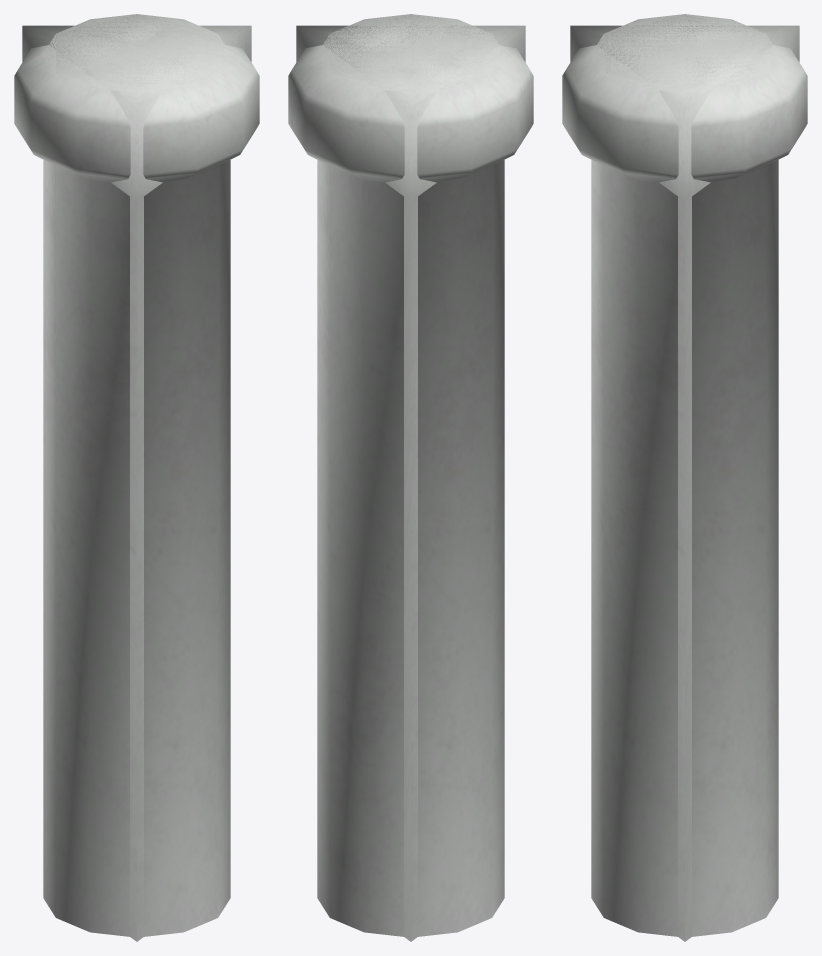
The model's file is hr_guardrail_endpost.dae.
3 views of the same model, side by side, from view 1: azimuth 30°, elevation 25°; view 2: azimuth 150°, elevation 25°; view 3: azimuth 270°, elevation 25° (orthographic).
Parts seen in each view (by area): view 1: hr_guardrail_endpost_a300, hr_guardrail_endpost_a15, hr_guardrail_endpost_a100, Colmesh_hr_guardrail_endpost-1; view 2: hr_guardrail_endpost_a300, hr_guardrail_endpost_a15, hr_guardrail_endpost_a100, Colmesh_hr_guardrail_endpost-1; view 3: hr_guardrail_endpost_a300, hr_guardrail_endpost_a15, hr_guardrail_endpost_a100, Colmesh_hr_guardrail_endpost-1.
Boxes of the visible parts, box(x1,y1,x2,y2) form: hr_guardrail_endpost_a300: box(14, 14, 259, 936); hr_guardrail_endpost_a15: box(22, 25, 251, 941); hr_guardrail_endpost_a100: box(56, 14, 217, 92); Colmesh_hr_guardrail_endpost-1: box(56, 15, 217, 92); hr_guardrail_endpost_a300: box(288, 14, 533, 936); hr_guardrail_endpost_a15: box(296, 25, 525, 941); hr_guardrail_endpost_a100: box(330, 14, 491, 92); Colmesh_hr_guardrail_endpost-1: box(330, 14, 491, 91); hr_guardrail_endpost_a300: box(562, 14, 807, 936); hr_guardrail_endpost_a15: box(570, 25, 799, 941); hr_guardrail_endpost_a100: box(604, 14, 765, 92); Colmesh_hr_guardrail_endpost-1: box(604, 15, 765, 92).
Size of the model in its own units: 0.4361 by 0.4196 by 1.59.
